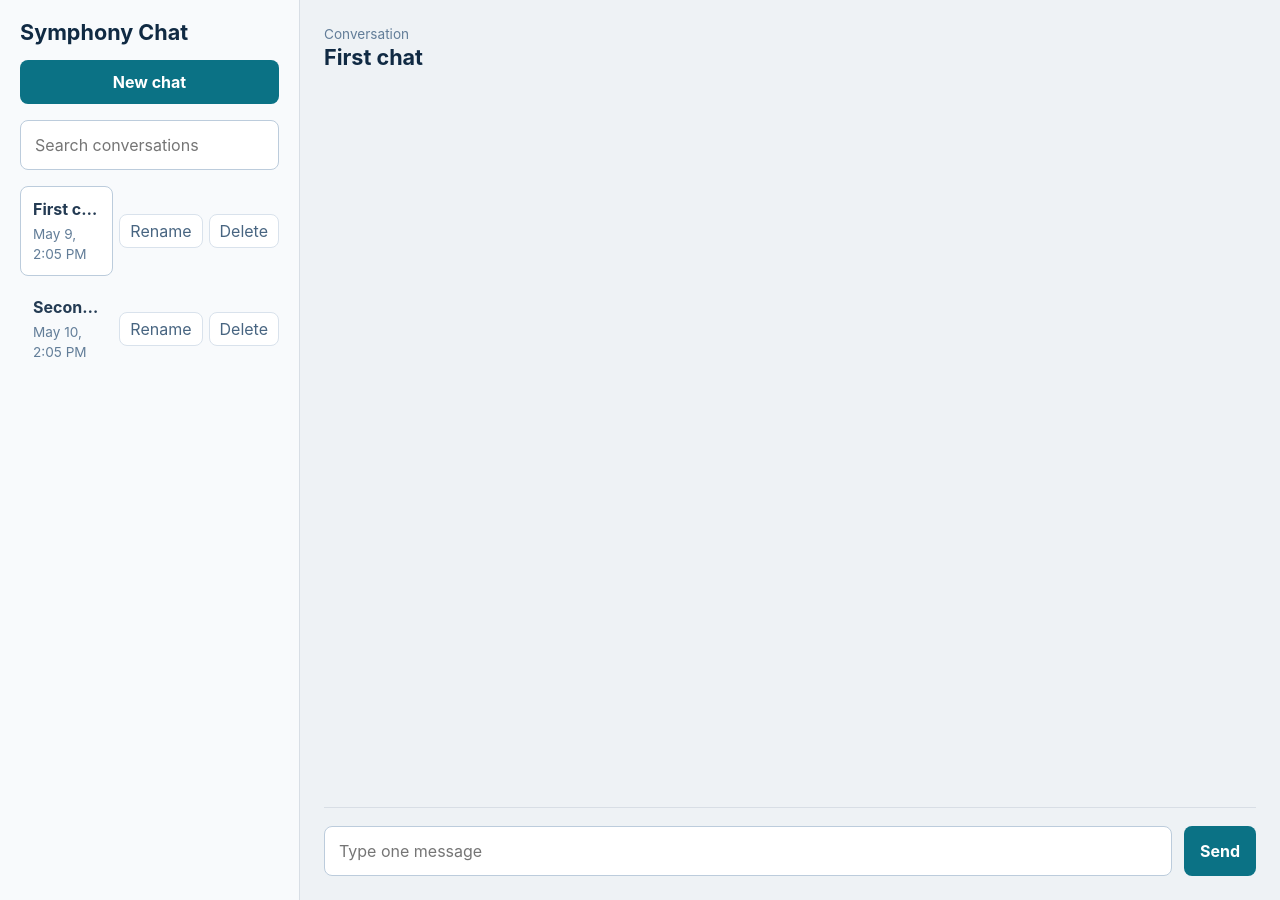
Scenario: App › filters conversations as the user types and restores them when cleared
Expected: the button with aria-label "Open First chat" is shown, [20,186,113,276]
In the search field labelled "Search conversations": [150, 145] box [20,120,279,170], type "second"
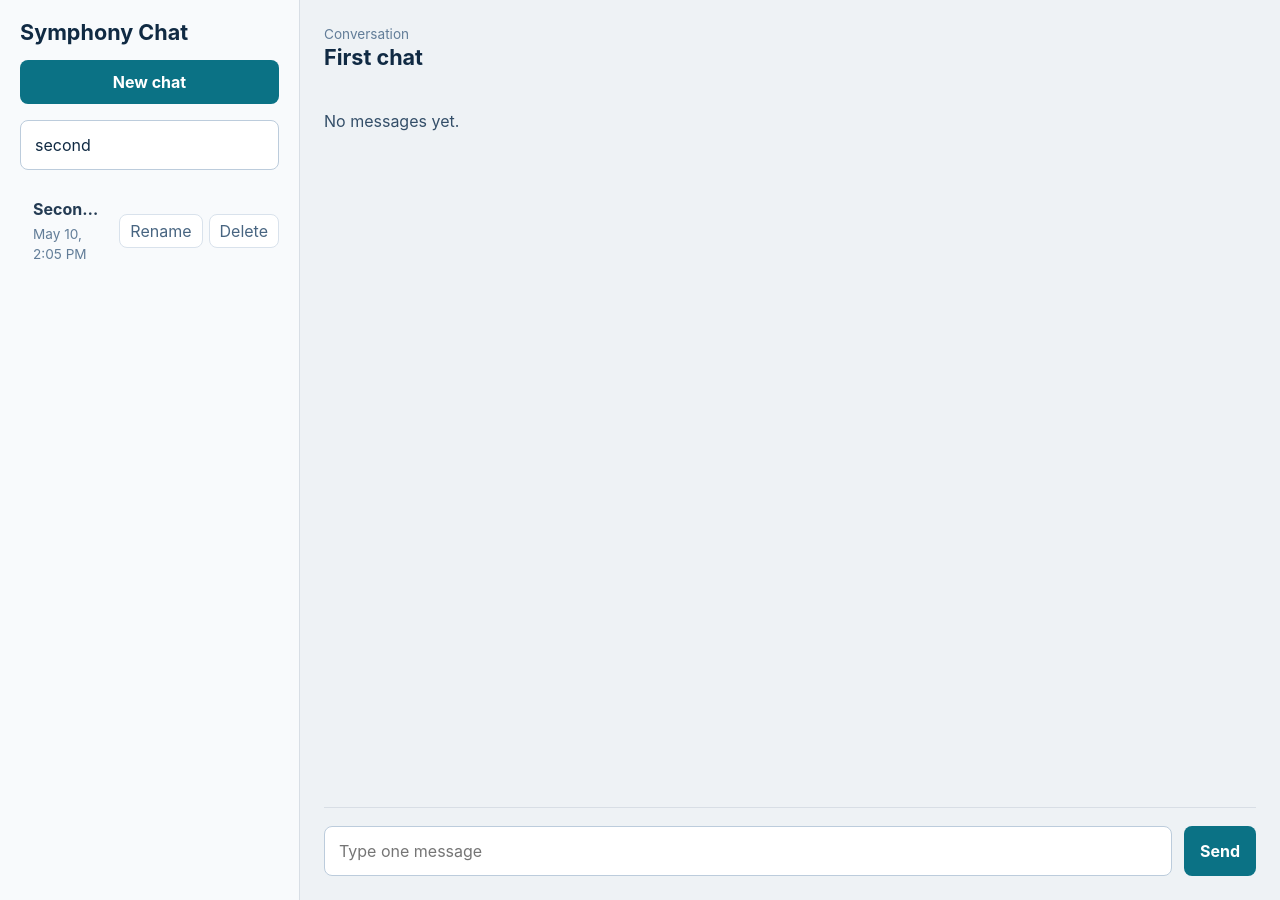
Expected: the button with aria-label "Open Second chat" is shown, [20,186,113,276]
Clear the search field named "Search conversations": [150, 145] box [20,120,279,170]
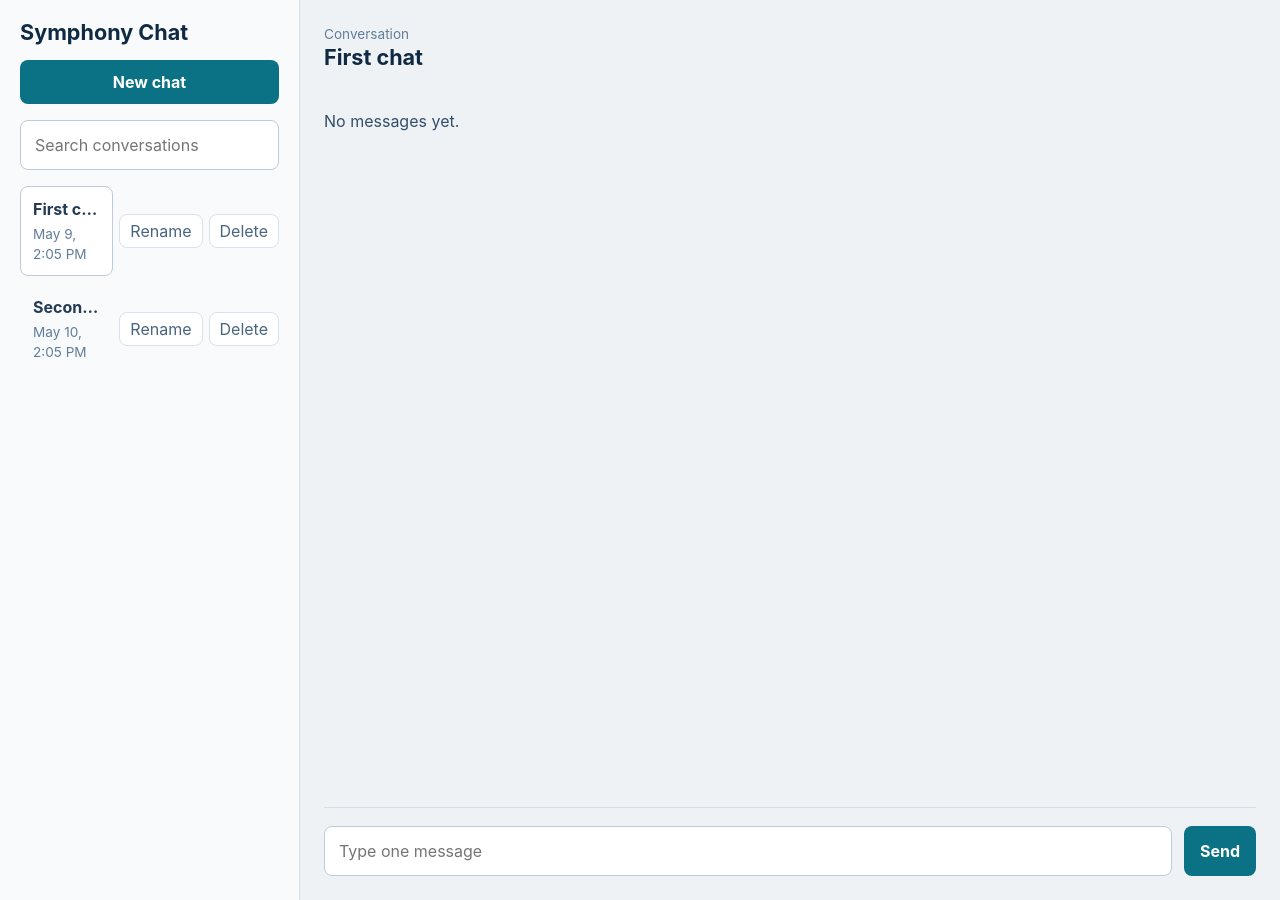
Expected: the button with aria-label "Open Second chat" is shown, [20,284,113,374]
Now the button with aria-label "Open First chat" is shown, box [20,186,113,276]
